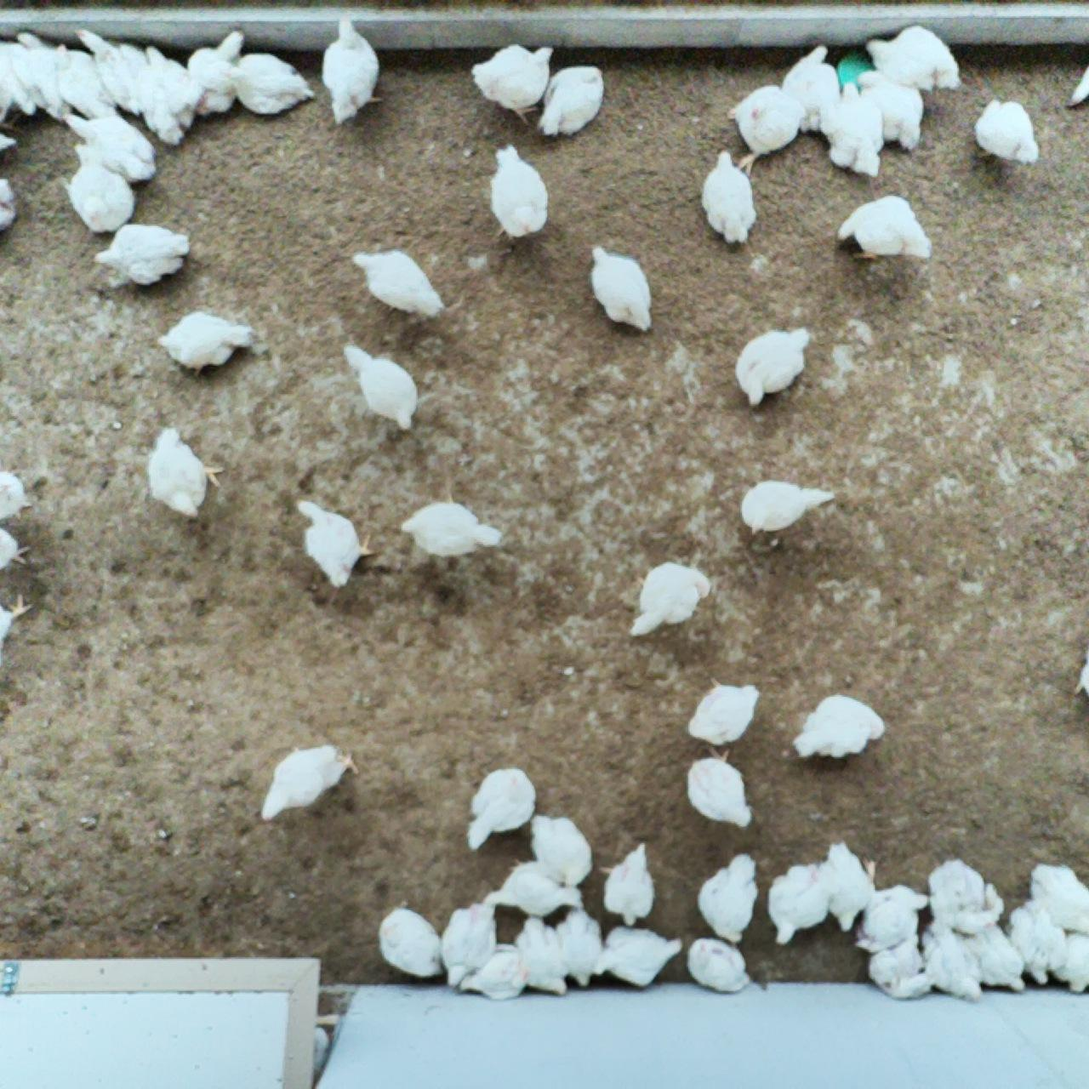chicken: (253, 739, 361, 827), (288, 494, 382, 588), (834, 192, 936, 274), (56, 107, 161, 184), (338, 337, 422, 433), (790, 687, 890, 767), (320, 12, 388, 128), (627, 554, 715, 643), (147, 422, 225, 520), (350, 245, 450, 320), (388, 498, 505, 562), (464, 40, 557, 120), (862, 23, 962, 97), (817, 76, 887, 181), (153, 307, 259, 376), (583, 239, 658, 336), (89, 217, 191, 288), (730, 325, 815, 407), (481, 140, 550, 241), (220, 47, 316, 119), (728, 82, 801, 173), (464, 763, 538, 852), (482, 856, 585, 919), (75, 23, 146, 114), (699, 146, 761, 250), (133, 43, 195, 145), (591, 919, 684, 987), (68, 139, 135, 233), (694, 852, 761, 946), (857, 64, 926, 155), (955, 911, 1027, 998), (47, 38, 116, 127), (916, 913, 984, 1002), (186, 27, 249, 123), (924, 858, 1003, 934), (685, 748, 755, 833), (440, 894, 503, 988), (766, 861, 834, 948), (741, 476, 839, 536), (854, 880, 931, 955), (524, 810, 596, 890), (973, 90, 1044, 171), (11, 25, 72, 119), (779, 44, 842, 135), (821, 835, 878, 934), (508, 911, 572, 999), (685, 677, 763, 749), (374, 901, 443, 982), (597, 836, 659, 923), (545, 903, 606, 991), (538, 64, 607, 139), (1009, 895, 1064, 989), (1023, 862, 1089, 939), (866, 932, 936, 1002), (457, 944, 536, 1003), (681, 935, 750, 995), (1044, 925, 1089, 1000), (0, 32, 37, 118), (0, 591, 37, 651), (0, 460, 31, 528), (0, 519, 33, 578), (1065, 637, 1089, 699), (1067, 49, 1089, 110), (0, 174, 20, 238), (0, 31, 12, 117), (0, 124, 19, 156)
